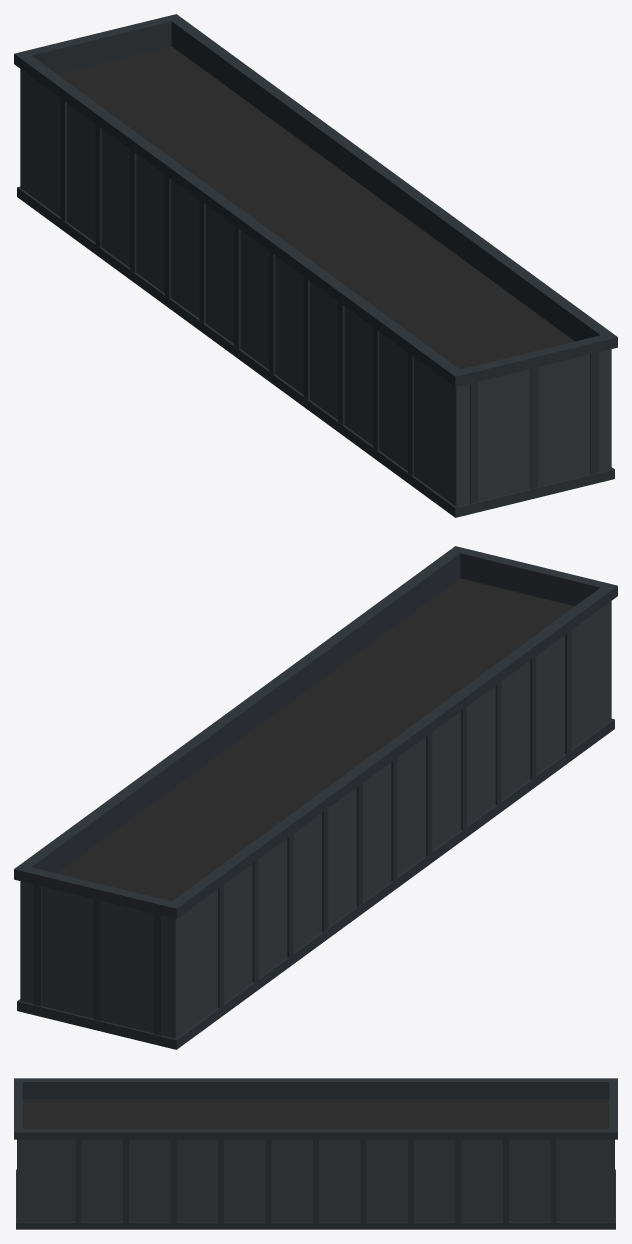
File: SM_Trains_TrainPart_06.glb
3 views of the same model, one above another, from view 1: azimuth 30°, elevation 25°; view 2: azimuth 150°, elevation 25°; view 3: azimuth 270°, elevation 25° (orthographic). The views are drawn at different scales.
Parts seen in each view (by area): view 1: SM_Trains_TrainPart_06; view 2: SM_Trains_TrainPart_06; view 3: SM_Trains_TrainPart_06.
Part boxes in pixels (box(x1,y1,x2,y2)): SM_Trains_TrainPart_06: box(14, 14, 617, 517); SM_Trains_TrainPart_06: box(14, 546, 617, 1049); SM_Trains_TrainPart_06: box(14, 1078, 617, 1229).
Size of the model in its own units: 3.62 by 3.04 by 17.05.
1 material, 1 textured.
